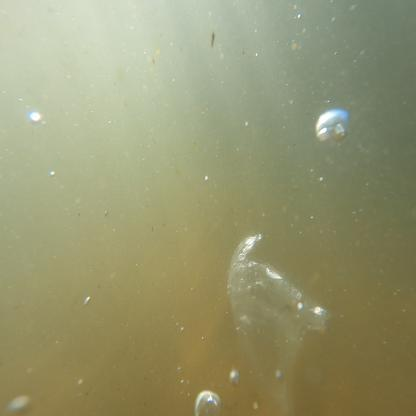Rác: (226, 228, 336, 405)
